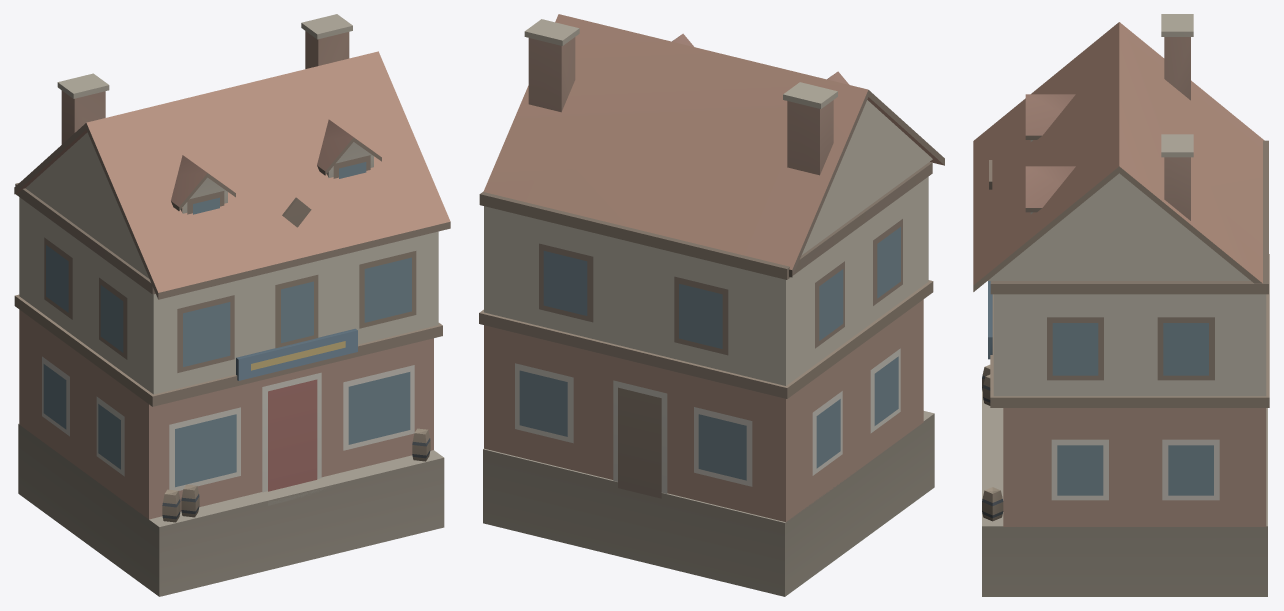
File: tavern.lod2.glb
3 views of the same model, side by side, from view 1: azimuth 30°, elevation 25°; view 2: azimuth 150°, elevation 25°; view 3: azimuth 270°, elevation 25° (orthographic). The views are drawn at different scales.
Bounding box in the file's own units: 7.12 × 10.16 × 6.15.
